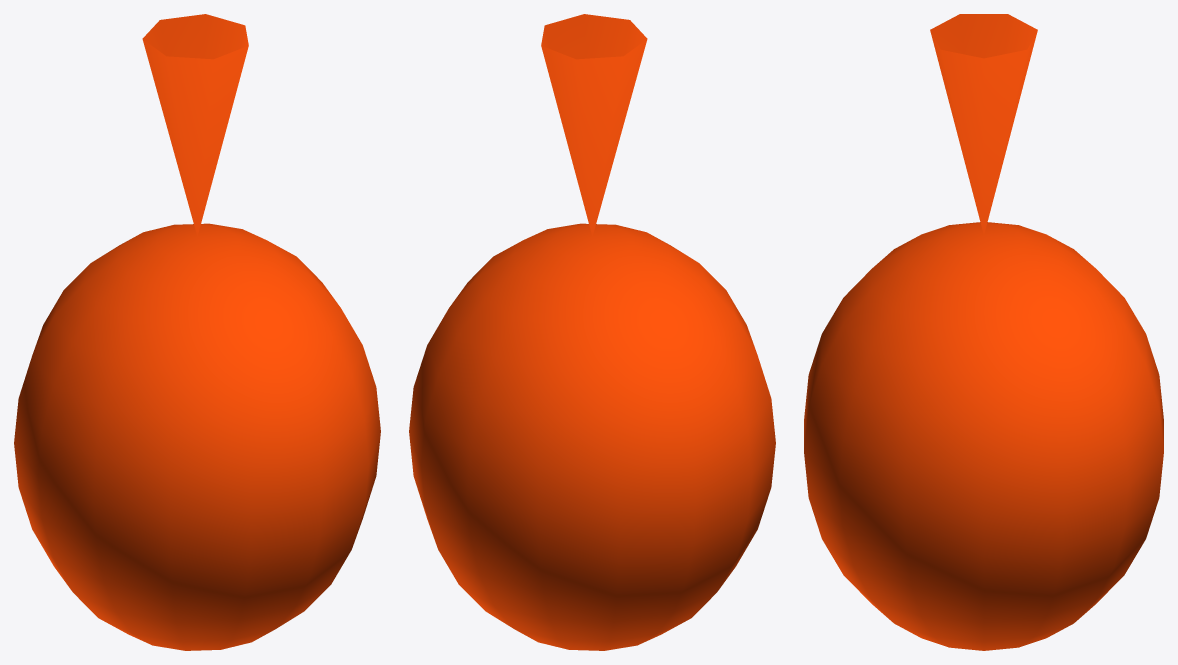
File: Magmarau_stage3.obj
3 views of the same model, side by side, from view 1: azimuth 30°, elevation 25°; view 2: azimuth 150°, elevation 25°; view 3: azimuth 270°, elevation 25° (orthographic).
Size of the model in its own units: 2.6 by 4.68 by 2.53.
